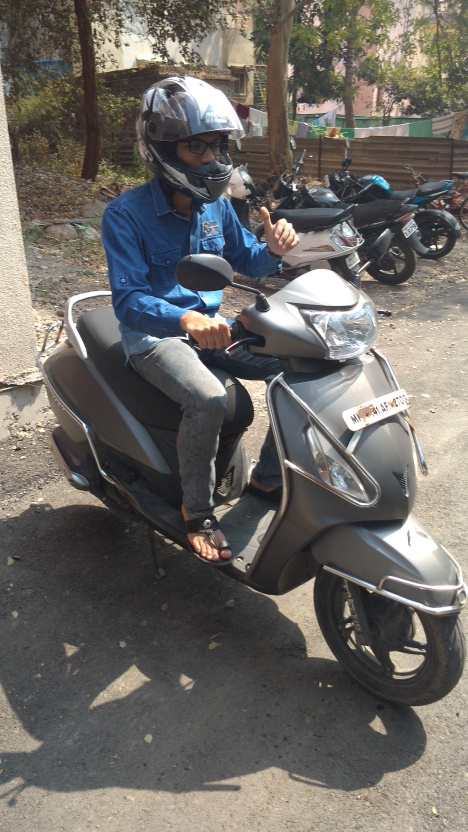helmet: (126, 71, 248, 213)
